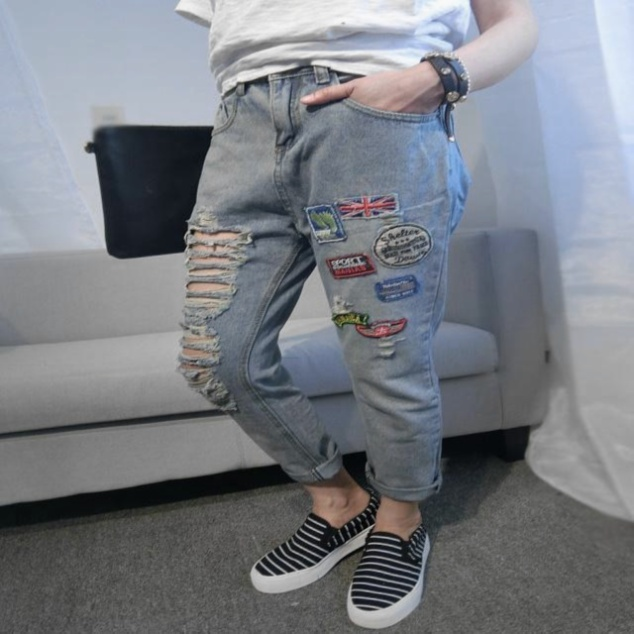ripped_pants: (177, 64, 472, 505)
